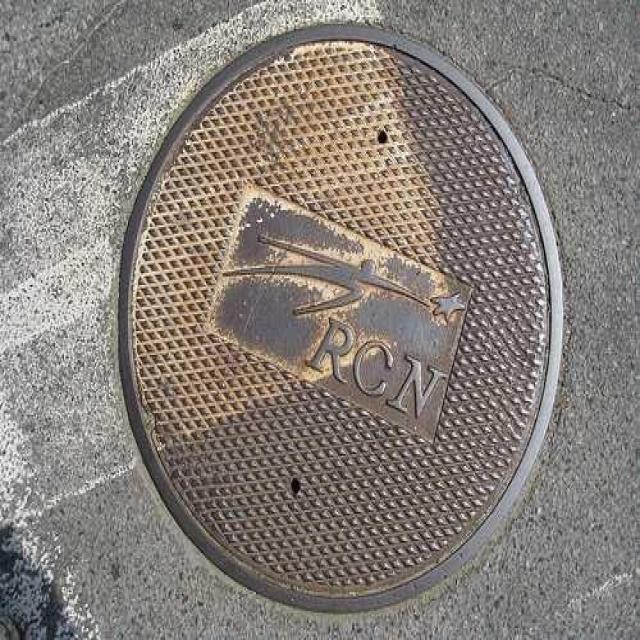manhole: (120, 25, 562, 610)
